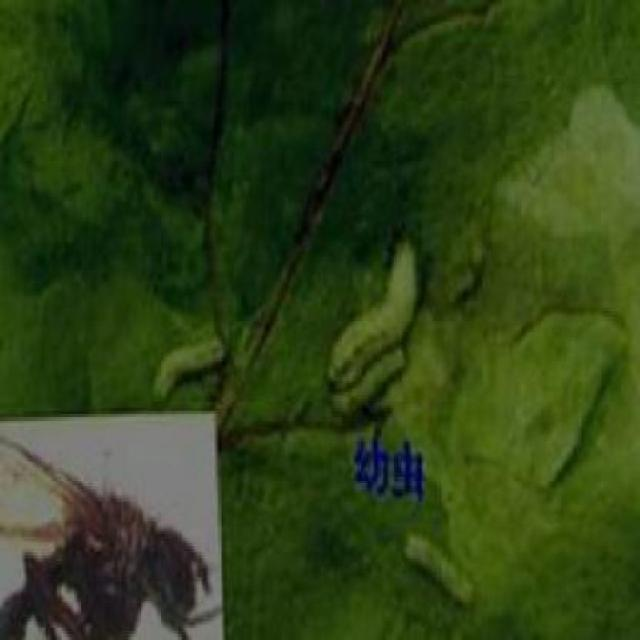whorl-maggot: (320, 216, 423, 422), (394, 520, 492, 615), (151, 329, 229, 397)
